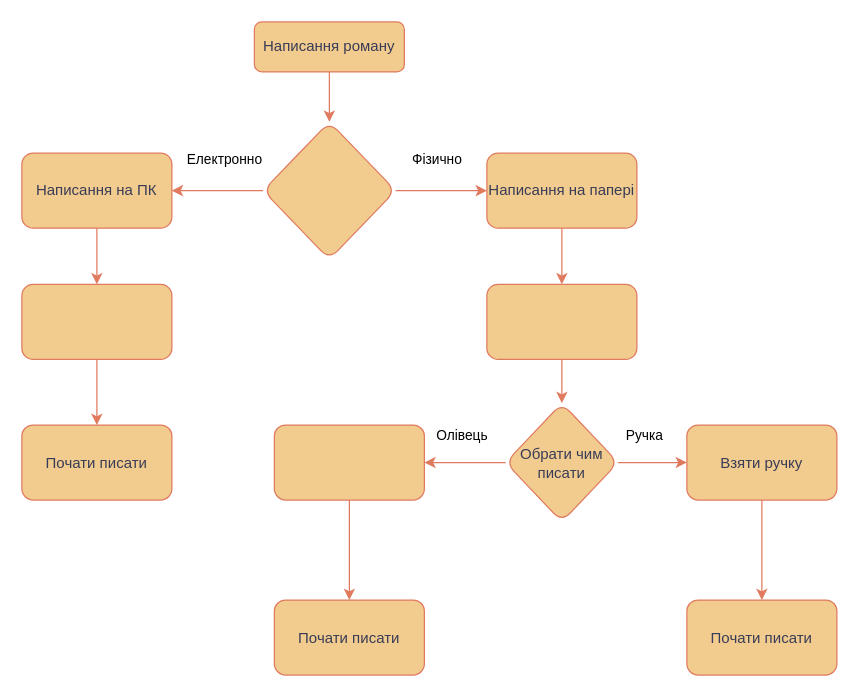
This 859x698 diagram has some shape labels left out. The shapes that lost their labels are listed below. From the top down, each one's box as (x1, y1, x2, y2) in pixels, then its label:
(262, 121, 396, 259): Обрати спосіб написання
(21, 283, 172, 359): Відкрити Word
(486, 283, 637, 359): Взяти папер
(273, 424, 424, 500): Взяти олівець
